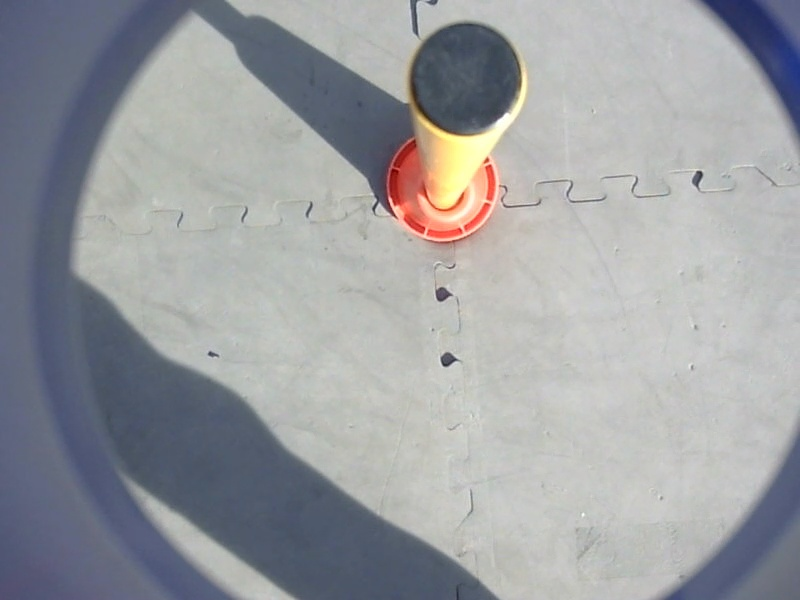tip: (400, 16, 531, 142)
